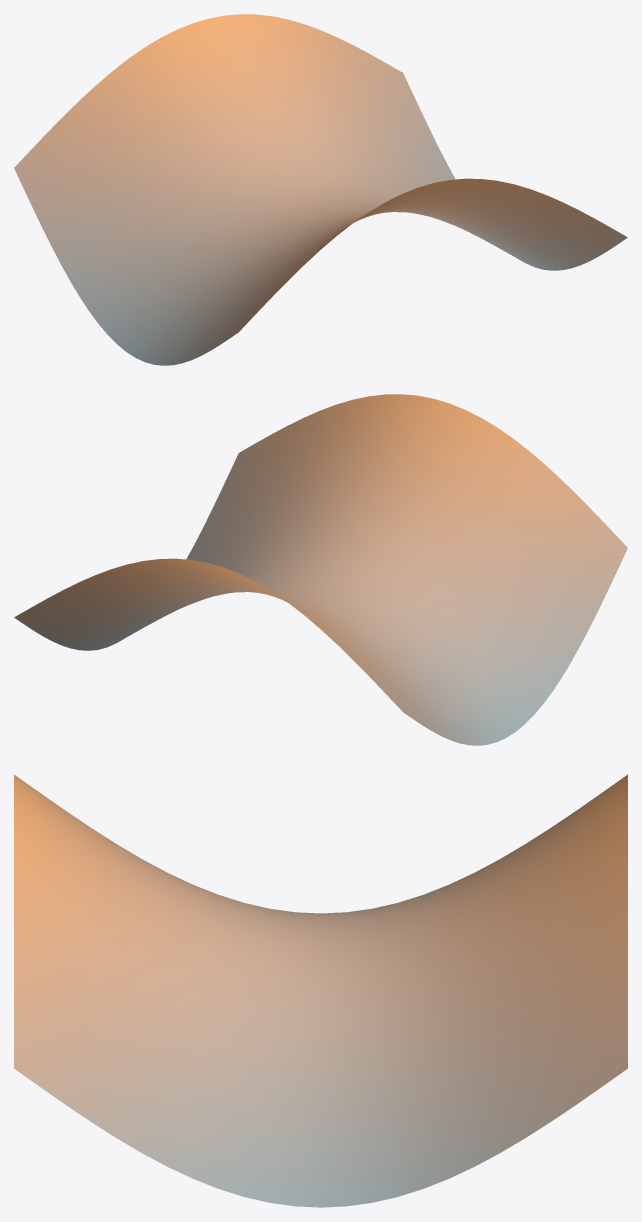
The model's file is example.gltf.
3 views of the same model, one above another, from view 1: azimuth 30°, elevation 25°; view 2: azimuth 150°, elevation 25°; view 3: azimuth 270°, elevation 25° (orthographic). The views are drawn at different scales.
Parts seen in each view (by area): view 1: coons_patch; view 2: coons_patch; view 3: coons_patch.
Boxes of the visible parts, x1=… form: coons_patch: x1=14, y1=14, x2=627, y2=365; coons_patch: x1=14, y1=394, x2=627, y2=745; coons_patch: x1=14, y1=774, x2=627, y2=1207.
Size of the model in its own units: 2 by 1 by 2.
